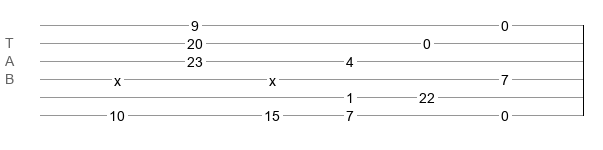0: (423, 36, 431, 46), (501, 108, 509, 118), (501, 18, 509, 28)
1: (346, 90, 354, 100)
10: (109, 108, 125, 118)
15: (264, 108, 280, 118)
20: (187, 36, 203, 46)
22: (419, 90, 435, 100)
23: (187, 54, 203, 64)
4: (346, 54, 354, 64)
7: (346, 108, 354, 118), (501, 72, 509, 82)
9: (191, 18, 199, 28)
x: (114, 73, 121, 81), (269, 73, 276, 81)
